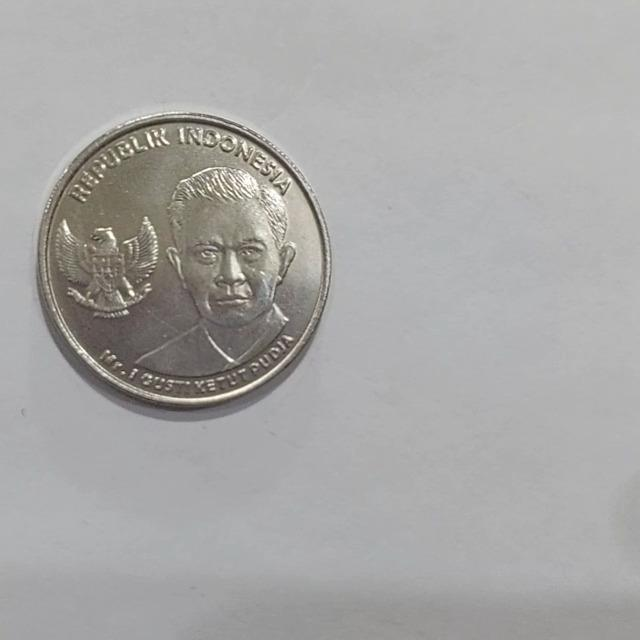Rp100: (35, 109, 333, 413), (129, 163, 299, 377), (52, 213, 159, 319)
